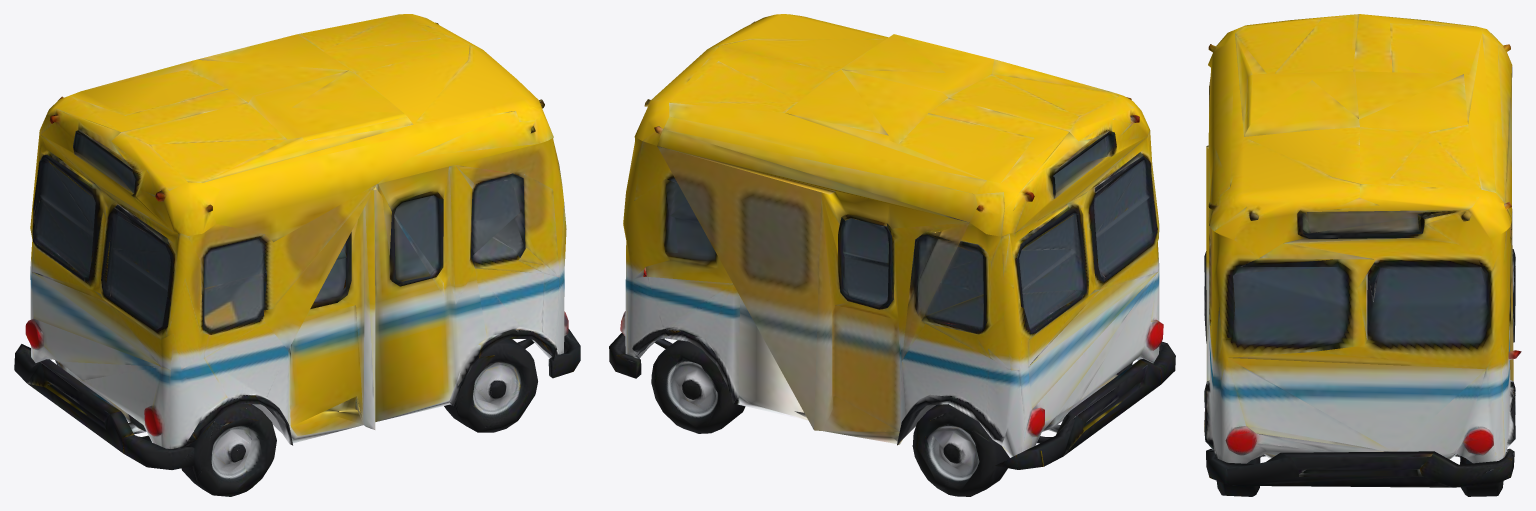
The model's file is bus-512.glb.
The picture shows the model from 3 angles, left to right: view 1: azimuth 30°, elevation 25°; view 2: azimuth 150°, elevation 25°; view 3: azimuth 270°, elevation 25°; orthographic projection.
Size of the model in its own units: 1.9 by 1.36 by 1.17.
1 material, 1 textured.
